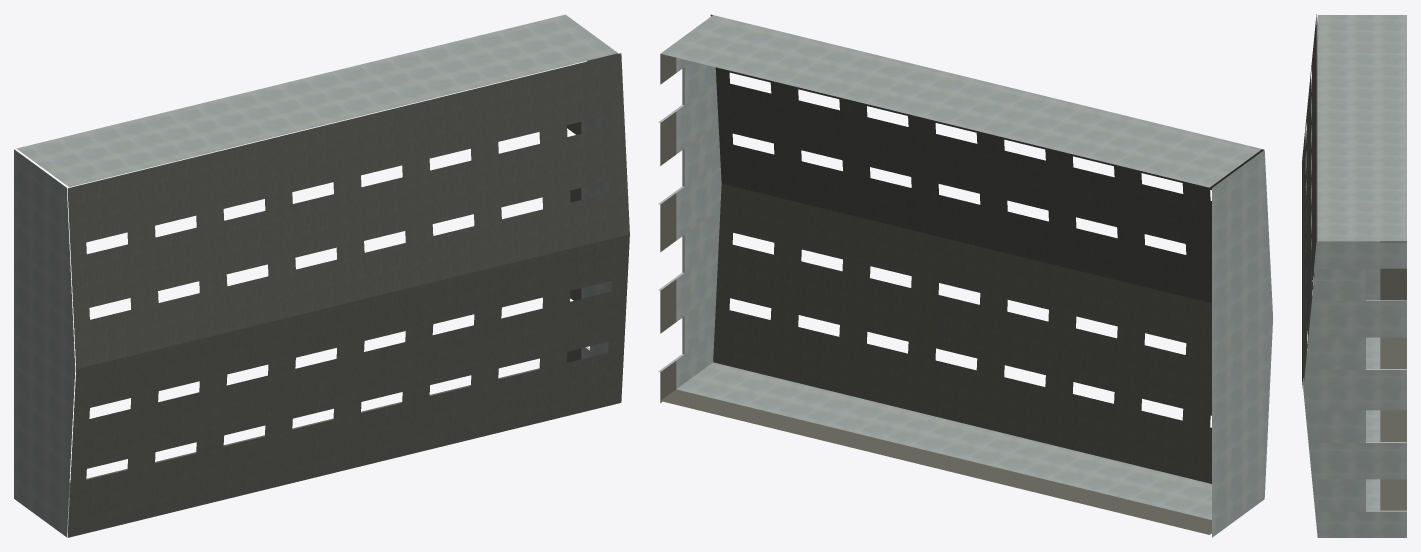
Rendered from shell_lightmapped.gltf.
The picture shows the model from 3 angles, left to right: view 1: azimuth 30°, elevation 25°; view 2: azimuth 150°, elevation 25°; view 3: azimuth 270°, elevation 25°; orthographic projection. The views are drawn at different scales.
Parts seen in each view (by area): view 1: shell; view 2: shell; view 3: shell.
Part boxes in pixels (left/top/right/bottom): shell: left=14, top=14, right=629, bottom=537; shell: left=658, top=14, right=1273, bottom=537; shell: left=1302, top=14, right=1406, bottom=537.
Bounding box in the file's own units: 60.5 × 36.5 × 11.75.
Materials: 4 (4 with a texture image).
